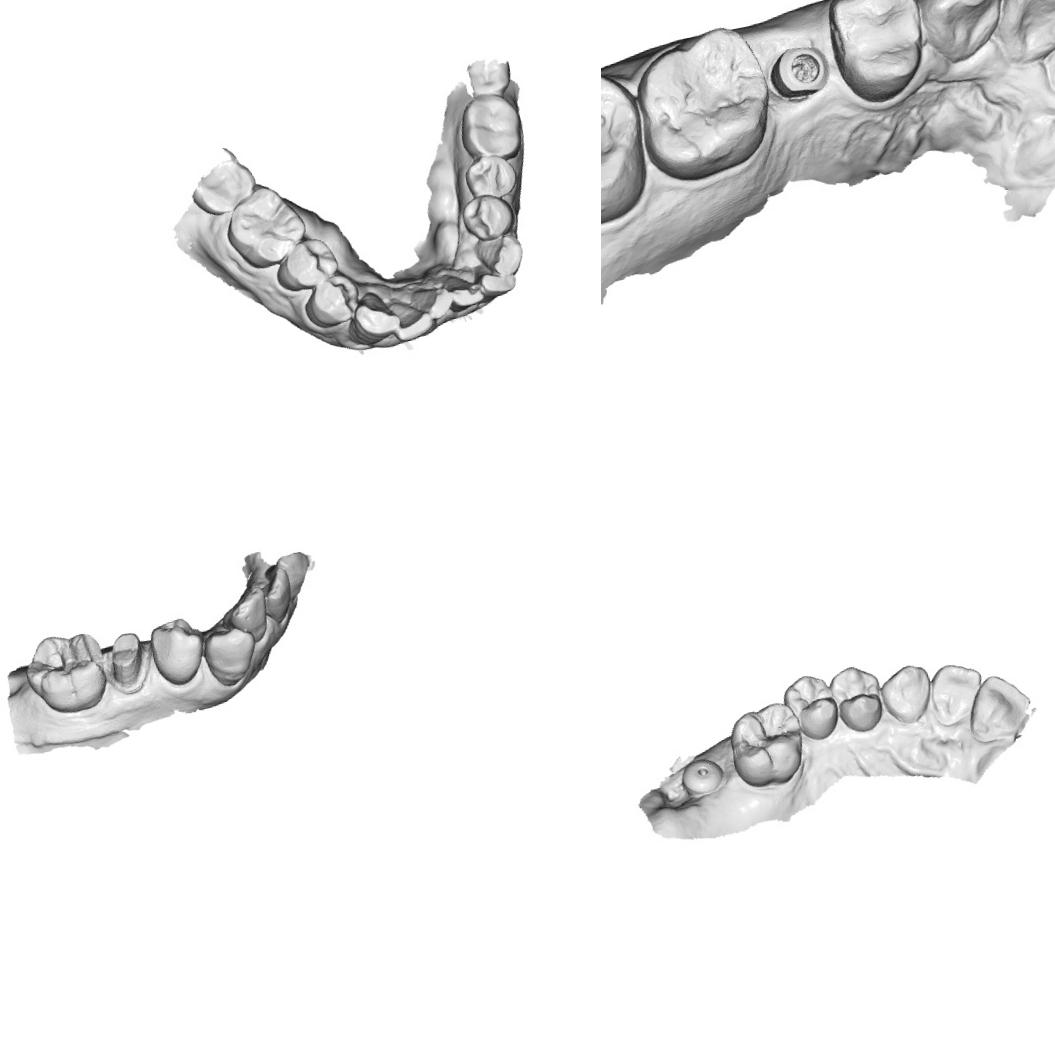canine: (910, 0, 1014, 69), (200, 622, 262, 689), (340, 286, 404, 350), (876, 660, 936, 728), (470, 230, 528, 282)
crown: (96, 620, 156, 700)
implant: (768, 35, 838, 109), (679, 752, 726, 796)
incisor: (960, 668, 1038, 748), (986, 0, 1055, 69), (926, 654, 987, 720), (222, 584, 272, 645), (383, 292, 437, 346), (255, 566, 297, 623), (408, 279, 456, 324), (440, 268, 486, 314), (474, 261, 519, 300), (276, 549, 314, 595)
molar: (625, 18, 785, 190), (601, 63, 659, 237), (216, 178, 313, 274), (19, 626, 111, 721), (723, 698, 810, 794), (452, 88, 528, 167), (185, 152, 260, 219), (458, 45, 516, 102)
premolar: (814, 0, 935, 112), (145, 612, 211, 692), (268, 231, 344, 296), (778, 669, 842, 745), (827, 660, 887, 734), (296, 269, 364, 332), (456, 188, 519, 244), (460, 150, 520, 204)
